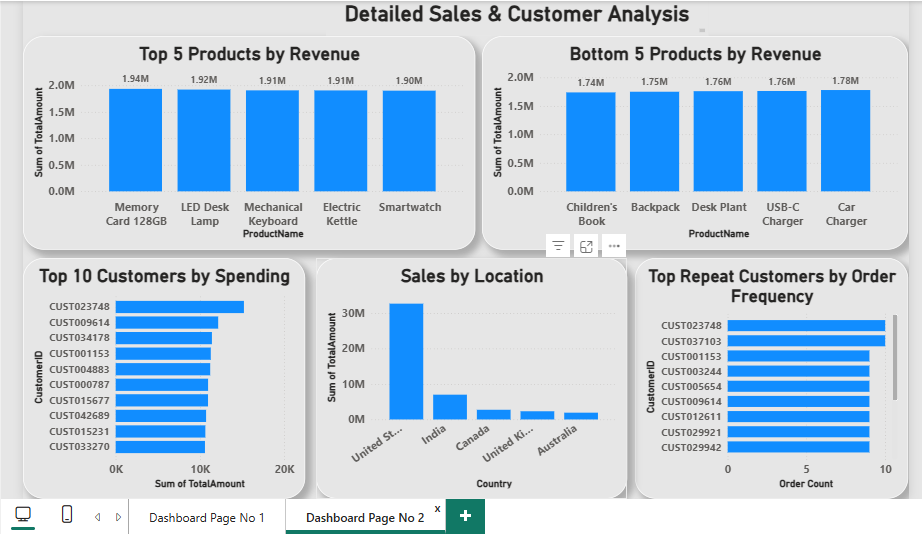

This screenshot's page, from the dashboard's own definition file:
{"tool":"powerbi","page":{"name":"Dashboard Page No 2","canvas":[1280,720],"ordinal":1},"visuals":[{"type":"clusteredColumnChart","title":"Top 5 Products by Revenue","fields":{"Category":["Amazon.ProductName"],"Y":["Sum(Amazon.TotalAmount)"]},"box":[0,50,653.9,308.6],"z":0},{"type":"clusteredColumnChart","title":"Bottom 5 Products by Revenue","fields":{"Category":["Amazon.ProductName"],"Y":["Sum(Amazon.TotalAmount)"]},"box":[664.2,50,615.7,308.6],"z":1000},{"type":"clusteredBarChart","title":"Top 10 Customers by Spending","fields":{"Category":["Amazon.CustomerID"],"Y":["Sum(Amazon.TotalAmount)"]},"box":[0,371.6,407.7,348.4],"z":2000},{"type":"clusteredBarChart","title":"Top Repeat Customers by Order Frequency","fields":{"Category":["Amazon.CustomerID"],"Y":["Amazon.Order Count"]},"box":[884.8,371.6,394.7,348.4],"z":3000},{"type":"clusteredColumnChart","title":"Sales by Location","fields":{"Category":["Amazon.City"],"Y":["Sum(Amazon.TotalAmount)"]},"box":[423.6,371.6,432.3,348.4],"z":4000},{"type":"textbox","title":"Detailed Sales & Customer Analysis","box":[438.4,0,552.7,50.4],"z":5000}]}

Visuals, with their boxes on the page's 1280x720 design canvas (x1, y1, x2, y2). These are canvas units, not pixel positions in the 922x534 screenshot, which may show the page scaled, cropped or inside an application window:
"Top 5 Products by Revenue" clusteredColumnChart: rect(0, 50, 654, 359)
"Bottom 5 Products by Revenue" clusteredColumnChart: rect(664, 50, 1280, 359)
"Top 10 Customers by Spending" clusteredBarChart: rect(0, 372, 408, 720)
"Top Repeat Customers by Order Frequency" clusteredBarChart: rect(885, 372, 1280, 720)
"Sales by Location" clusteredColumnChart: rect(424, 372, 856, 720)
"Detailed Sales & Customer Analysis" textbox: rect(438, 0, 991, 50)
